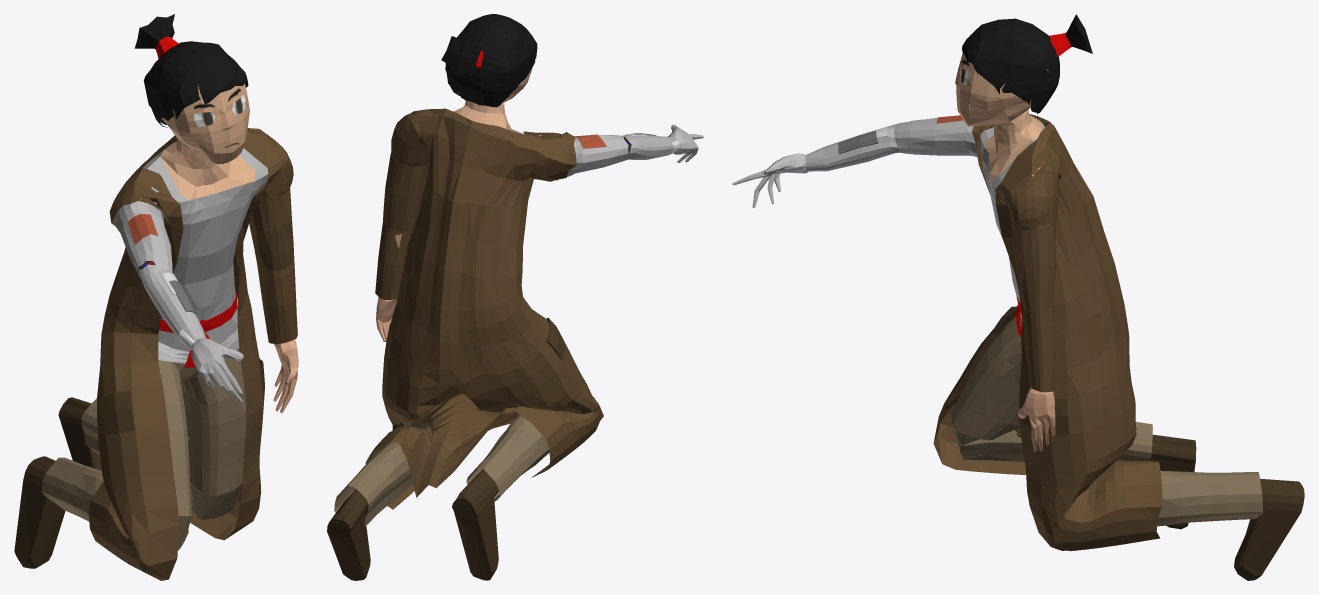
The model's file is One_Die_000021.obj.
The picture shows the model from 3 angles, left to right: view 1: azimuth 30°, elevation 25°; view 2: azimuth 150°, elevation 25°; view 3: azimuth 270°, elevation 25°; orthographic projection. The views are drawn at different scales.
Parts seen in each view (by area): view 1: Hair_Cube.004; view 2: Hair_Cube.004; view 3: Hair_Cube.004.
Part boxes in pixels (x1,y1,x2,y2): Hair_Cube.004: [14, 14, 298, 580]; Hair_Cube.004: [327, 14, 703, 580]; Hair_Cube.004: [732, 14, 1304, 580].
Bounding box in the file's own units: 1.31 × 3.03 × 2.87.
